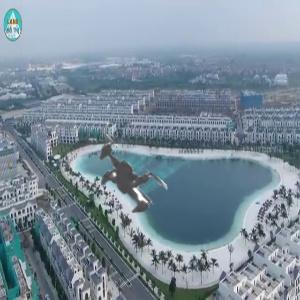drone: (47, 109, 199, 261)
